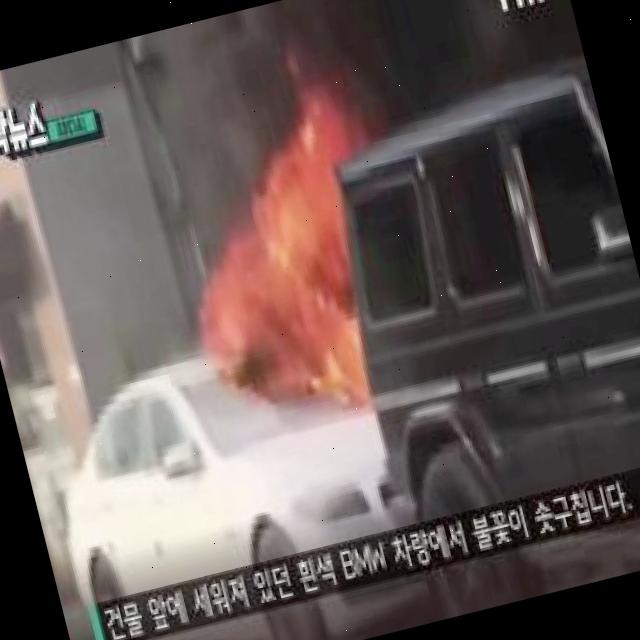fire: (170, 121, 413, 412)
